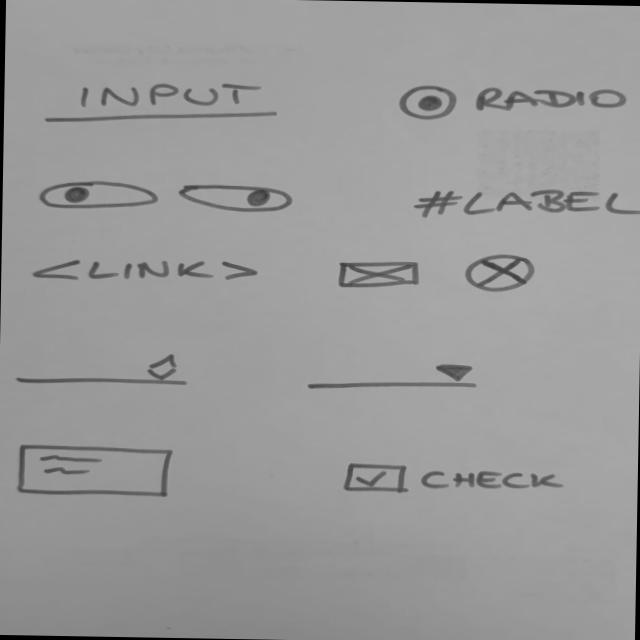checkbox: (335, 459, 573, 500)
image: (459, 252, 538, 295), (331, 259, 426, 292)
input: (40, 71, 282, 132)
label: (408, 184, 640, 225)
link: (28, 253, 267, 288)
number-input: (7, 349, 195, 389)
radio: (397, 82, 637, 129)
select: (300, 357, 483, 397)
textarea: (15, 441, 181, 503)
toggle: (173, 181, 299, 217), (39, 180, 163, 213)
